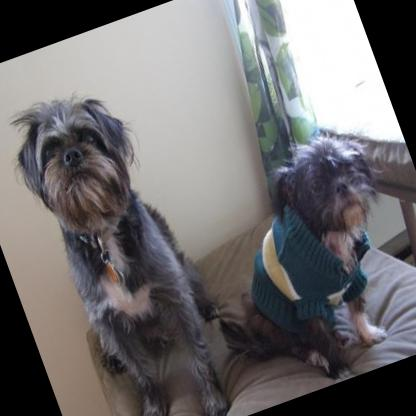affenpinscher: (0, 69, 250, 416), (164, 117, 416, 411)
